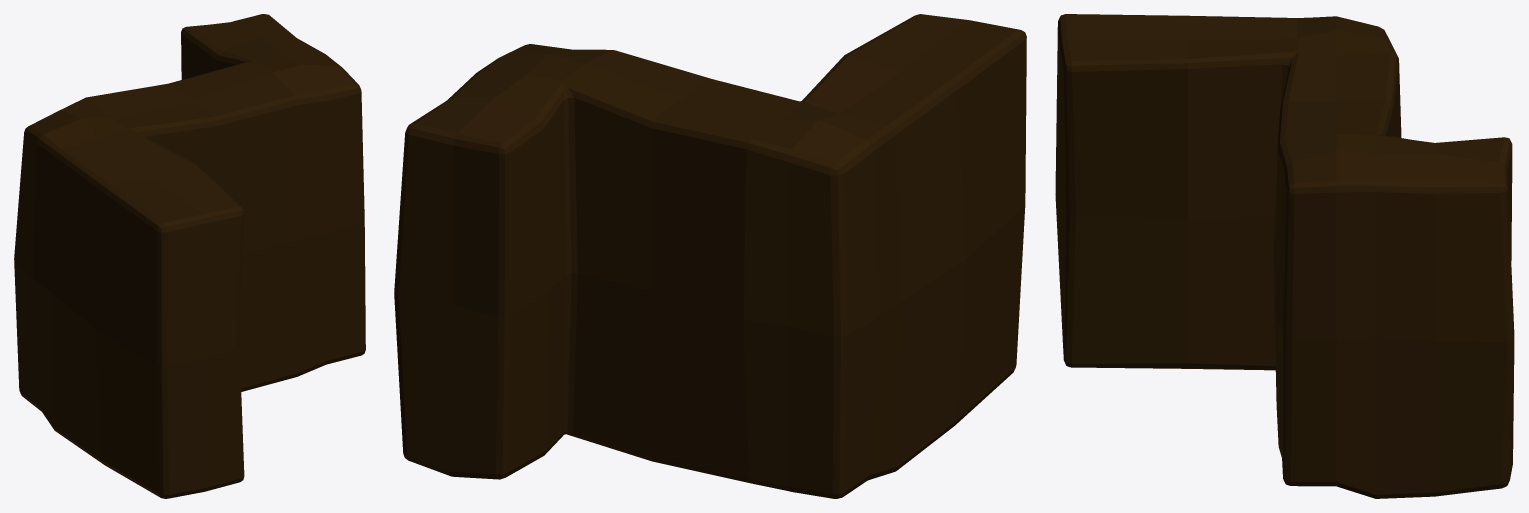
File: Wall piece 12.fbx
3 views of the same model, side by side, from view 1: azimuth 30°, elevation 25°; view 2: azimuth 150°, elevation 25°; view 3: azimuth 270°, elevation 25° (orthographic). The views are drawn at different scales.
Parts seen in each view (by area): view 1: wall piece 12O; view 2: wall piece 12O; view 3: wall piece 12O.
Boxes of the visible parts, box(x1,y1,x2,y2) form: wall piece 12O: box(14, 14, 365, 498); wall piece 12O: box(394, 14, 1026, 498); wall piece 12O: box(1055, 14, 1514, 498).
Bounding box in the file's own units: 531 × 583 × 461.
